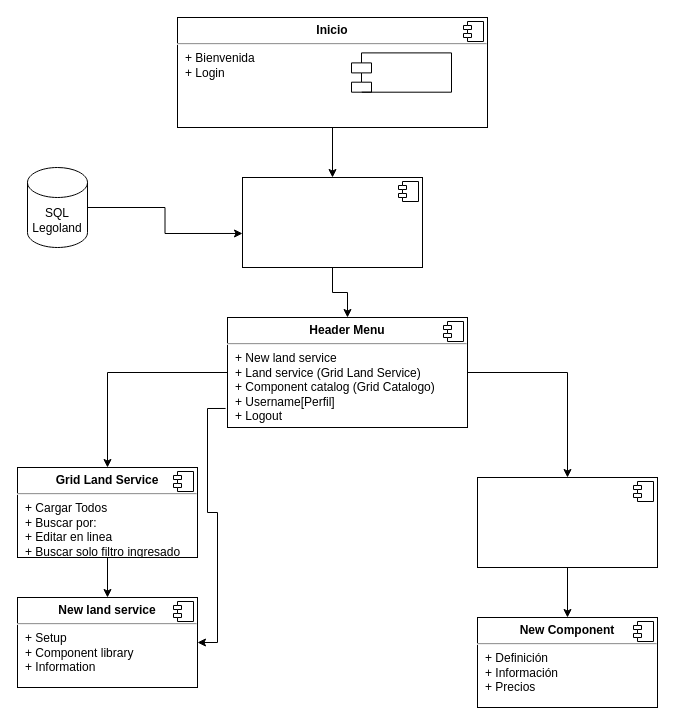
The diagram is 675 pixels wide and 725 high, and some of its shapes have lost their labels. Each missing label, with the centre of its shape:
"Grid Component + Cargar Todos + Buscar por: + Editar en linea" belongs at point 567,522.
"Home + Header Menu + Roles + Perfiles" belongs at point 332,222.
"MS-Login" belongs at point 401,72.
